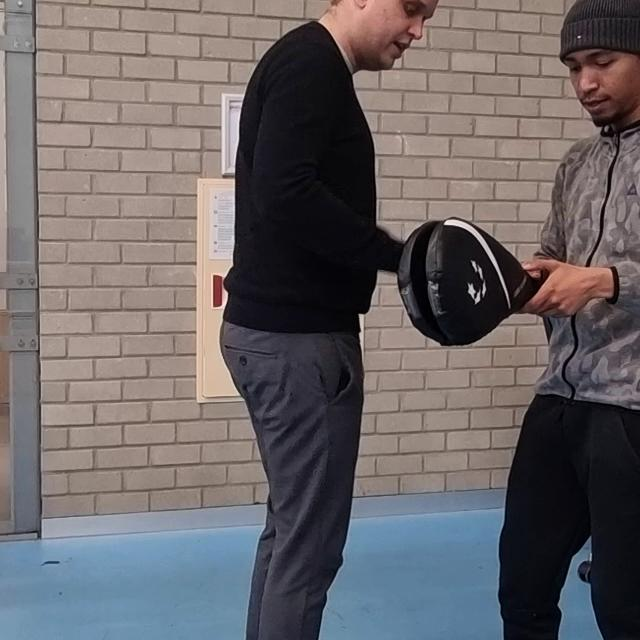paddle: (399, 218, 533, 346)
